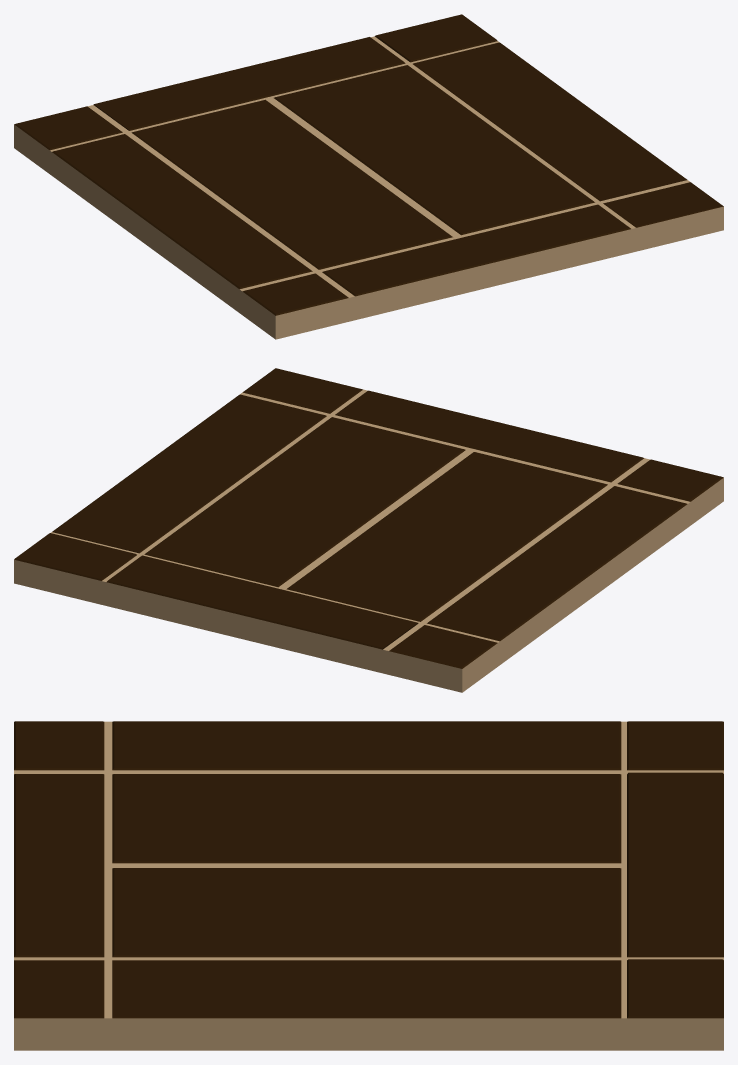
File: suelo5.fbx
3 views of the same model, one above another, from view 1: azimuth 30°, elevation 25°; view 2: azimuth 150°, elevation 25°; view 3: azimuth 270°, elevation 25° (orthographic). The views are drawn at different scales.
Visible parts, largest first — view 1: Cube.020; view 2: Cube.020; view 3: Cube.020.
Part boxes in pixels (<box>): Cube.020: <box>14,14,723,339</box>; Cube.020: <box>14,368,723,692</box>; Cube.020: <box>14,721,723,1050</box>.
Bounding box in the file's own units: 5765 × 307 × 5829.
